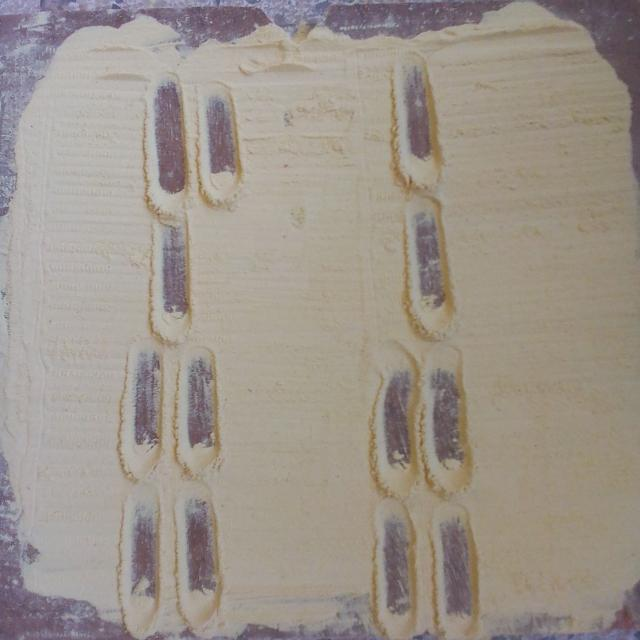double: (374, 350, 474, 467), (148, 78, 244, 198), (128, 486, 225, 604), (372, 512, 482, 616), (124, 339, 224, 452)
single: (403, 196, 456, 313), (143, 218, 198, 324), (395, 61, 443, 170)
